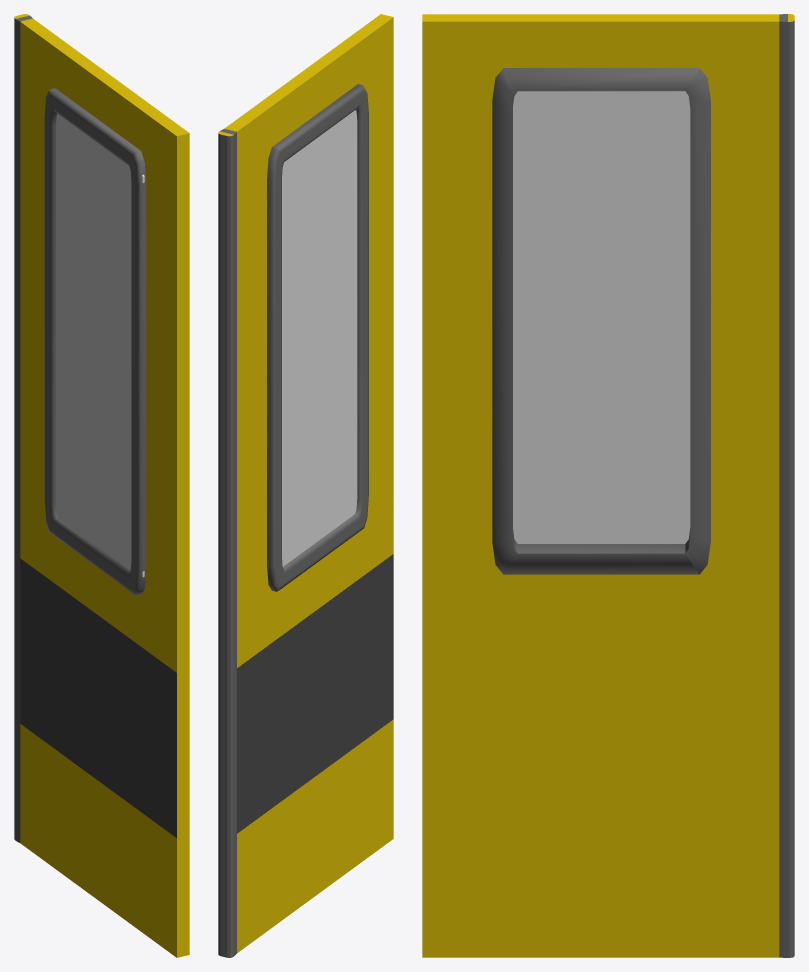
The model's file is PuertaB.fbx.
3 views of the same model, side by side, from view 1: azimuth 30°, elevation 25°; view 2: azimuth 150°, elevation 25°; view 3: azimuth 270°, elevation 25° (orthographic). The views are drawn at different scales.
Visible parts, largest first — view 1: Plane.002; view 2: Plane.002; view 3: Plane.002.
Boxes of the visible parts, x1,y1,x2,y2 form: Plane.002: [14, 14, 189, 957]; Plane.002: [218, 14, 393, 957]; Plane.002: [422, 14, 794, 957].
Size of the model in its own units: 12.51 by 431 by 155.
